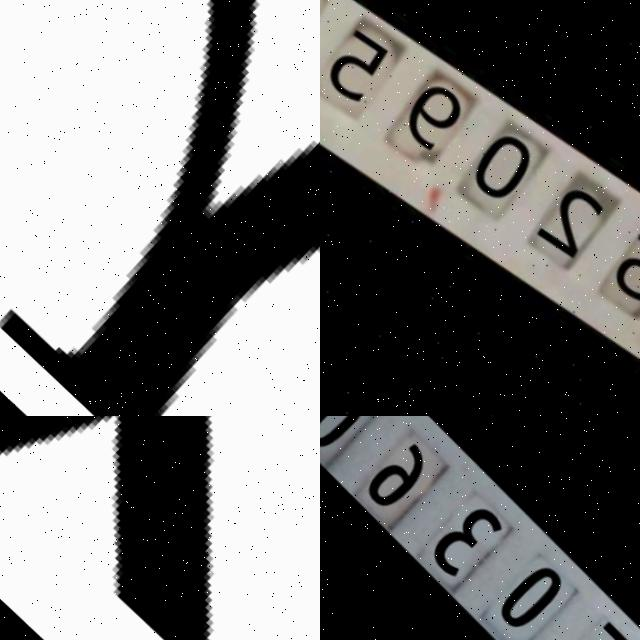0: (437, 109, 563, 228), (478, 551, 579, 640), (320, 416, 388, 467)
2: (504, 160, 633, 282)
3: (411, 489, 519, 591)
5: (320, 8, 420, 128), (580, 215, 640, 325), (535, 609, 640, 640)
6: (347, 429, 450, 527)
9: (368, 58, 495, 177)
X: (0, 416, 320, 640)
Y: (0, 0, 320, 416)
